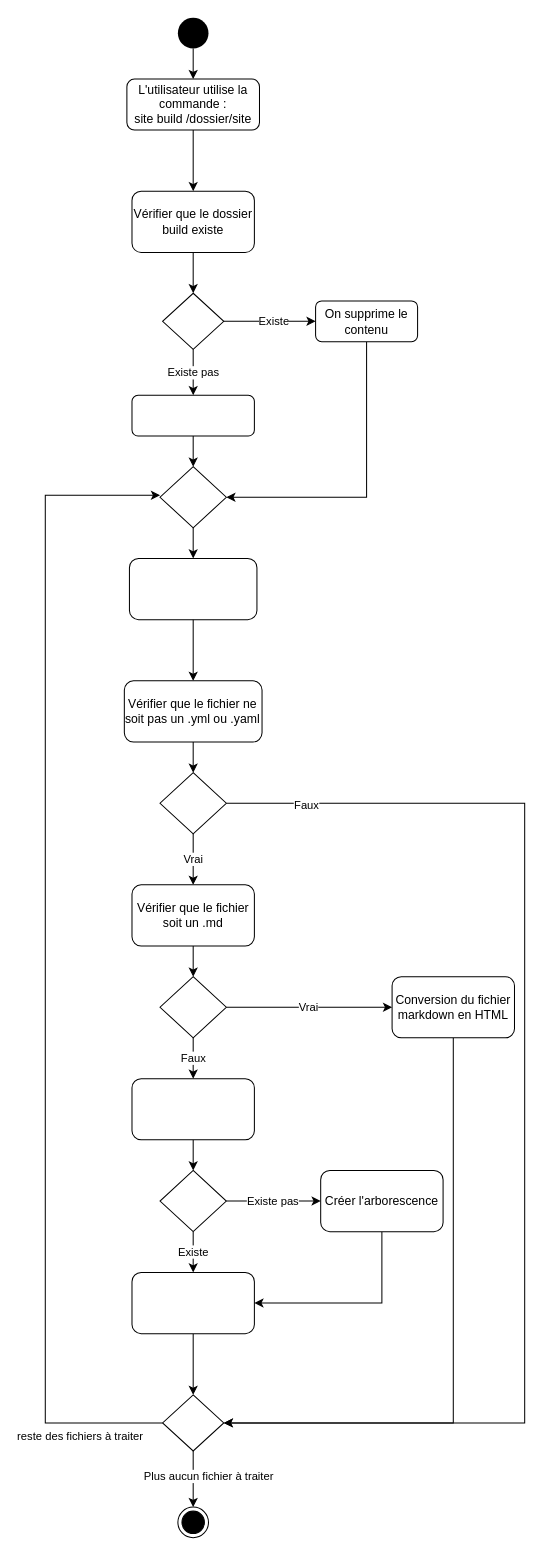
This 551x1564 diagram has some shape labels left out. The shapes that lost their labels are listed below. From the top down, each one's centre as x and y in pixels, then its label:
At pixel 192 415: "Création du dossier build".
At pixel 192 588: "Parcourir tous les fichiers présent dans le dossier spécifié".
At pixel 192 1109: "Vérifier que l'arborescence du fichier existe".
At pixel 192 1302: "Copie le fichier à l'emplacement correspondant".
